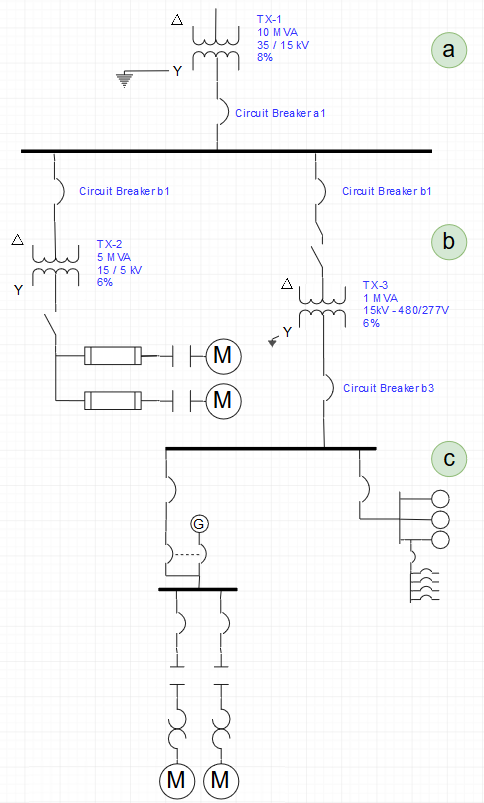circuit_breaker: (311, 358, 340, 410), (156, 463, 184, 514), (304, 165, 334, 210), (46, 168, 73, 212), (348, 462, 372, 511), (213, 598, 237, 646), (207, 88, 232, 130), (172, 606, 188, 641)
fuse: (76, 339, 151, 373), (75, 385, 151, 417)
ground: (105, 59, 139, 94)
switch: (28, 299, 76, 339), (303, 226, 341, 269)
transformer: (168, 10, 252, 84), (278, 276, 362, 335), (25, 241, 90, 292)
